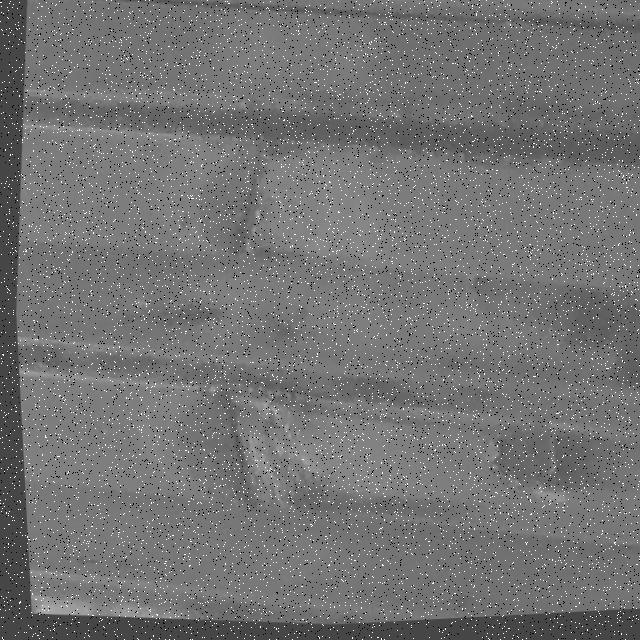rust: (156, 115, 406, 635)
